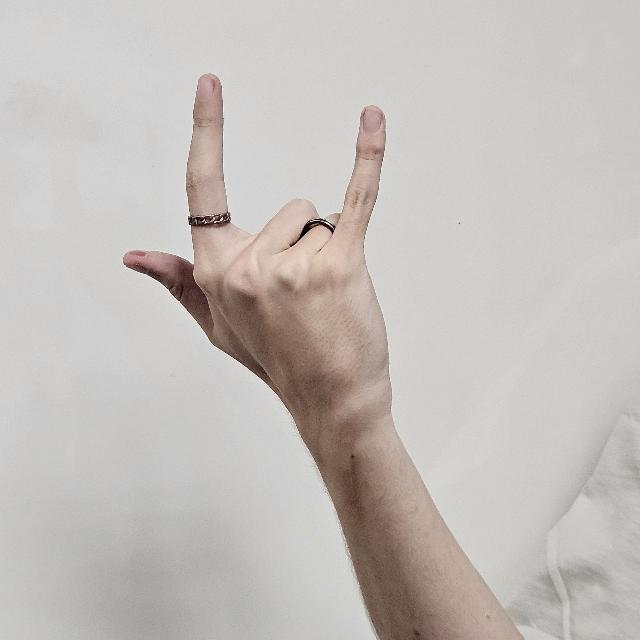Cima: (123, 72, 395, 440)
